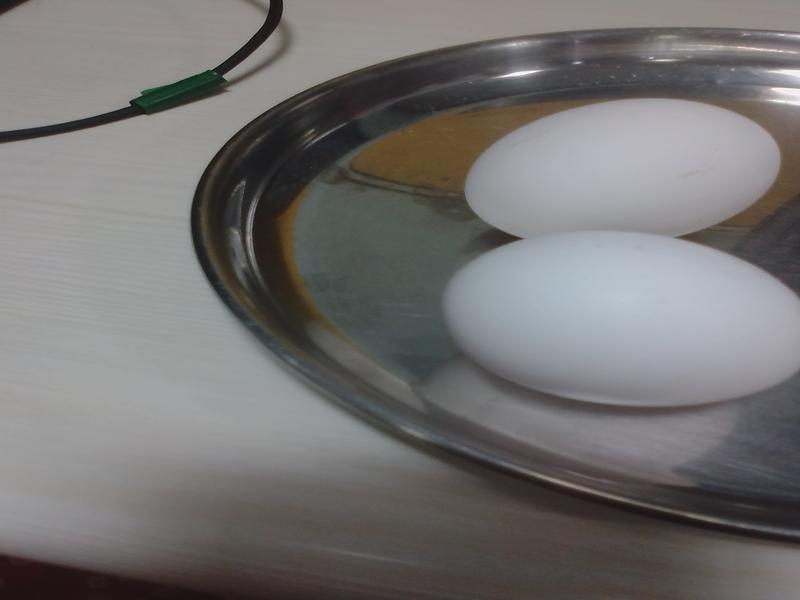egg: (454, 232, 800, 409)
